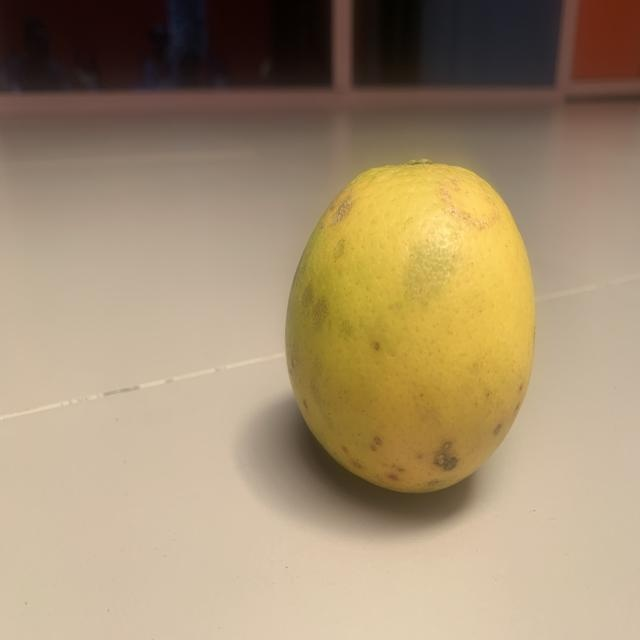agrume: (273, 150, 551, 508)
